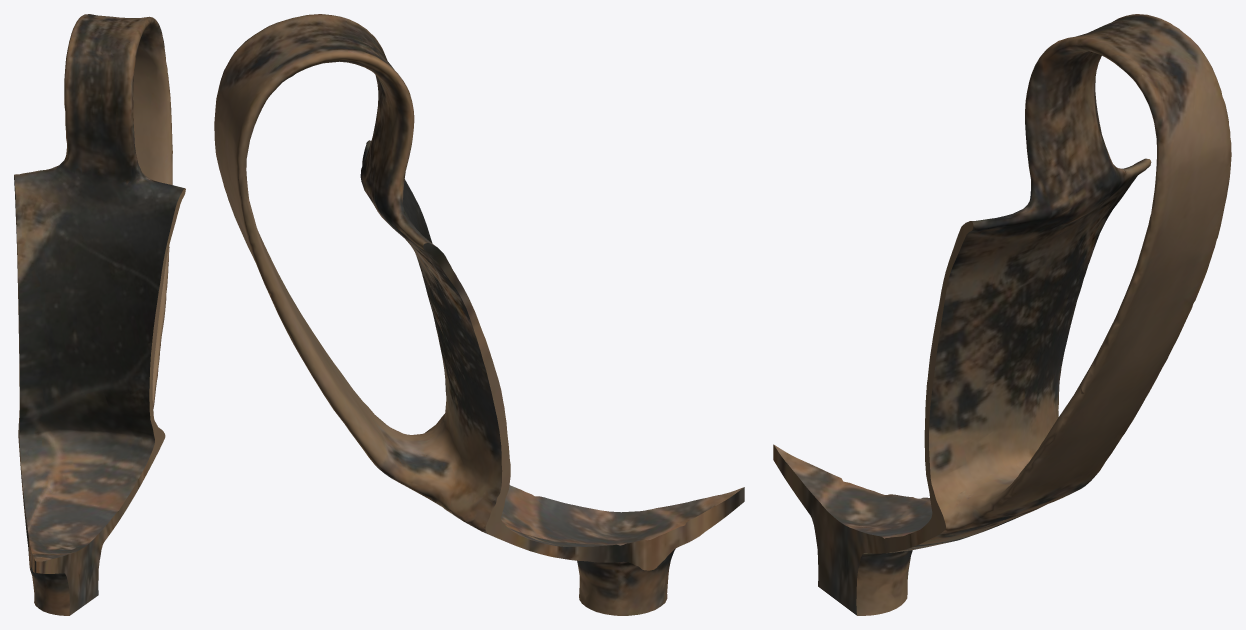
Rendered from kantharos.glb.
3 renders of one model, left to right at view 1: azimuth 30°, elevation 25°; view 2: azimuth 150°, elevation 25°; view 3: azimuth 270°, elevation 25°, orthographic. The views are drawn at different scales.
Parts seen in each view (by area): view 1: Mesh_0.009; view 2: Mesh_0.009; view 3: Mesh_0.009.
Boxes of the visible parts, x1,y1,x2,y2 form: Mesh_0.009: [14, 14, 185, 615]; Mesh_0.009: [214, 14, 744, 615]; Mesh_0.009: [773, 14, 1231, 615].
Size of the model in its own units: 0.1197 by 0.2001 by 0.1257.
1 material, 1 textured.
